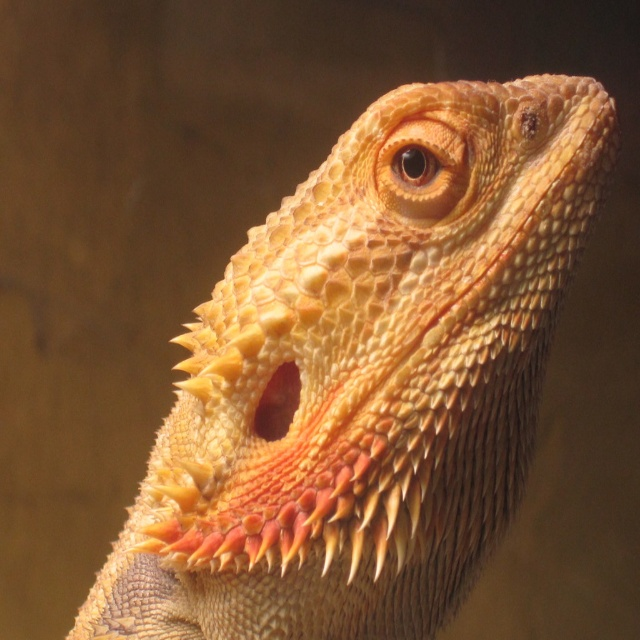Lizard: (54, 65, 610, 640)
